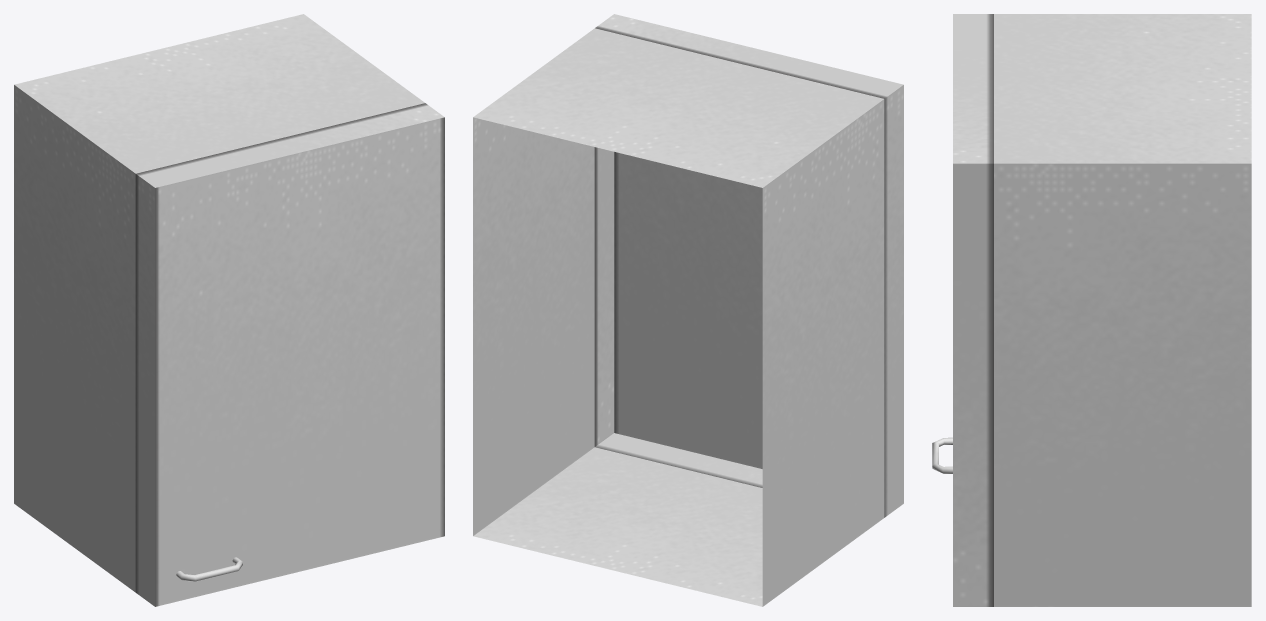
The model's file is Kitchen_Cabinet.fbx.
3 renders of one model, left to right at view 1: azimuth 30°, elevation 25°; view 2: azimuth 150°, elevation 25°; view 3: azimuth 270°, elevation 25°, orthographic. The views are drawn at different scales.
Parts seen in each view (by area): view 1: Cuisine_Comptoir_Gauche.005; view 2: Cuisine_Comptoir_Gauche.005; view 3: Cuisine_Comptoir_Gauche.005.
Boxes of the visible parts, box(x1,y1,x2,y2) form: Cuisine_Comptoir_Gauche.005: box(14, 14, 444, 606); Cuisine_Comptoir_Gauche.005: box(473, 14, 903, 606); Cuisine_Comptoir_Gauche.005: box(932, 14, 1251, 606).
Bounding box in the file's own units: 60 × 82.92 × 54.14.
